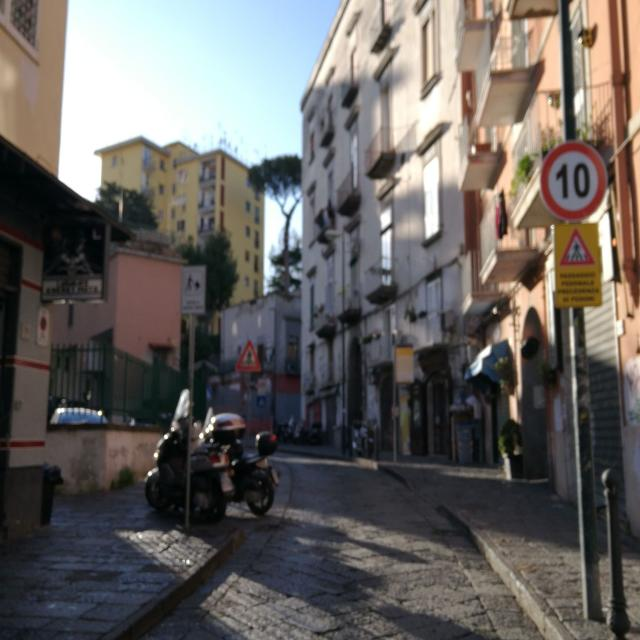bike: (143, 392, 234, 524), (174, 412, 280, 520)
